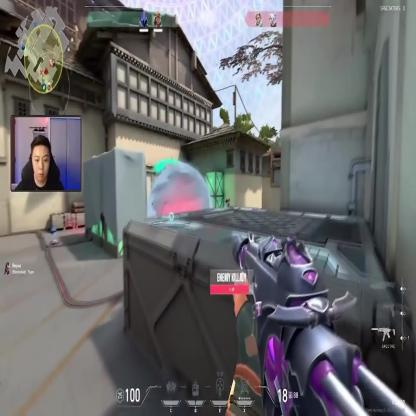enemy: (225, 195, 231, 220)
enemy_head: (227, 196, 229, 200)
